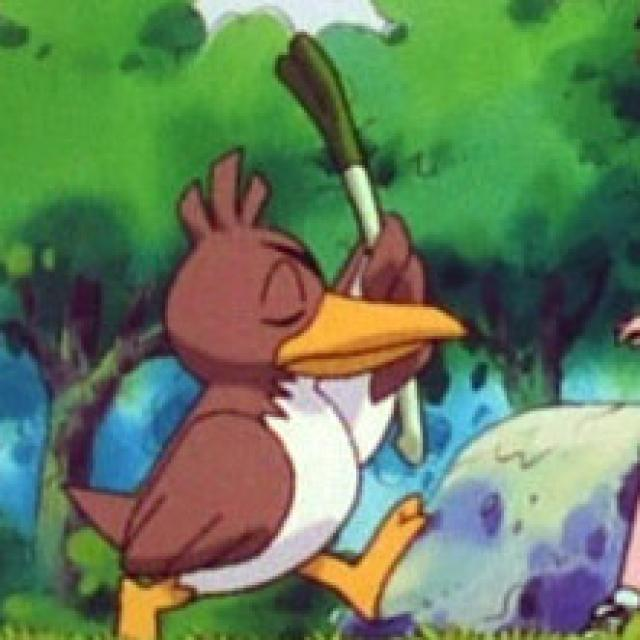Farfetchd: (112, 147, 438, 640)
